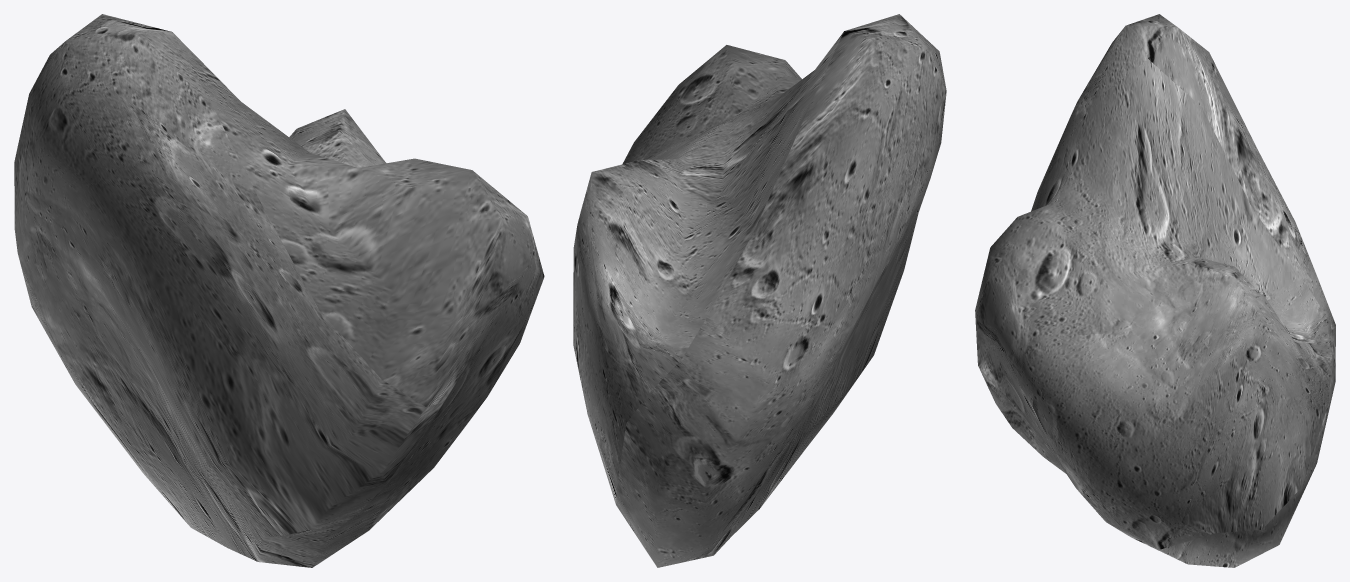
File: asteroid04.FBX
The picture shows the model from 3 angles, left to right: view 1: azimuth 30°, elevation 25°; view 2: azimuth 150°, elevation 25°; view 3: azimuth 270°, elevation 25°; orthographic projection. The views are drawn at different scales.
Visible parts, largest first — view 1: Asteroid004; view 2: Asteroid004; view 3: Asteroid004.
Boxes of the visible parts, left/top/right/bottom form: Asteroid004: left=14, top=14, right=544, bottom=567; Asteroid004: left=573, top=14, right=946, bottom=567; Asteroid004: left=975, top=14, right=1335, bottom=567.
Bounding box in the file's own units: 100 × 139 × 96.48.
Materials: 1 (1 with a texture image).
